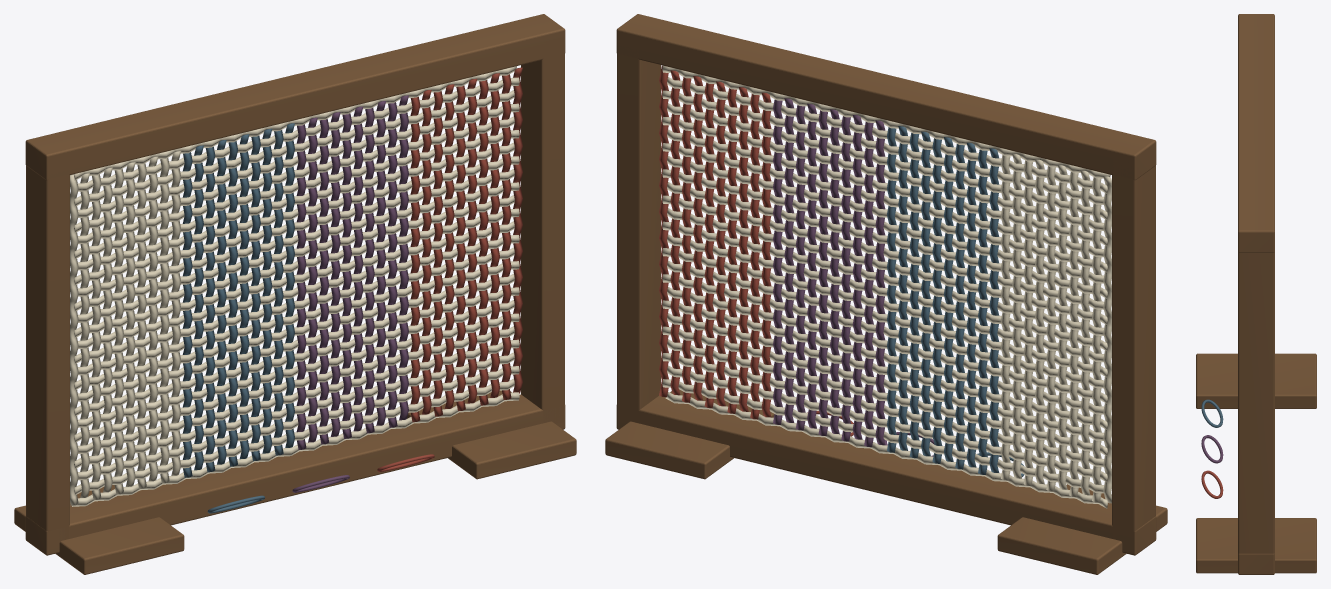
Rendered from woven-sample.glb.
3 renders of one model, left to right at view 1: azimuth 30°, elevation 25°; view 2: azimuth 150°, elevation 25°; view 3: azimuth 270°, elevation 25°, orthographic. The views are drawn at different scales.
Visible parts, largest first — view 1: woven-sample-fine-linen, woven-sample-acacia-core, woven-sample-scarlet-thread, woven-sample-blue-thread, woven-sample-purple-thread; view 2: woven-sample-fine-linen, woven-sample-acacia-core, woven-sample-scarlet-thread, woven-sample-purple-thread, woven-sample-blue-thread; view 3: woven-sample-acacia-core, woven-sample-purple-thread, woven-sample-blue-thread, woven-sample-scarlet-thread.
Boxes of the visible parts, bbox=[...] form: woven-sample-fine-linen: bbox=[70, 66, 519, 506]; woven-sample-acacia-core: bbox=[14, 14, 576, 574]; woven-sample-scarlet-thread: bbox=[377, 67, 522, 472]; woven-sample-blue-thread: bbox=[182, 123, 294, 513]; woven-sample-purple-thread: bbox=[292, 95, 408, 492]; woven-sample-fine-linen: bbox=[662, 65, 1111, 508]; woven-sample-acacia-core: bbox=[605, 14, 1167, 574]; woven-sample-scarlet-thread: bbox=[659, 65, 853, 436]; woven-sample-purple-thread: bbox=[773, 98, 934, 456]; woven-sample-blue-thread: bbox=[887, 126, 1024, 476]; woven-sample-acacia-core: bbox=[1196, 14, 1316, 574]; woven-sample-purple-thread: bbox=[1201, 435, 1223, 463]; woven-sample-blue-thread: bbox=[1201, 399, 1223, 427]; woven-sample-scarlet-thread: bbox=[1201, 470, 1223, 498].
Bounding box in the file's own units: 0.98 × 0.7315 × 0.23.
